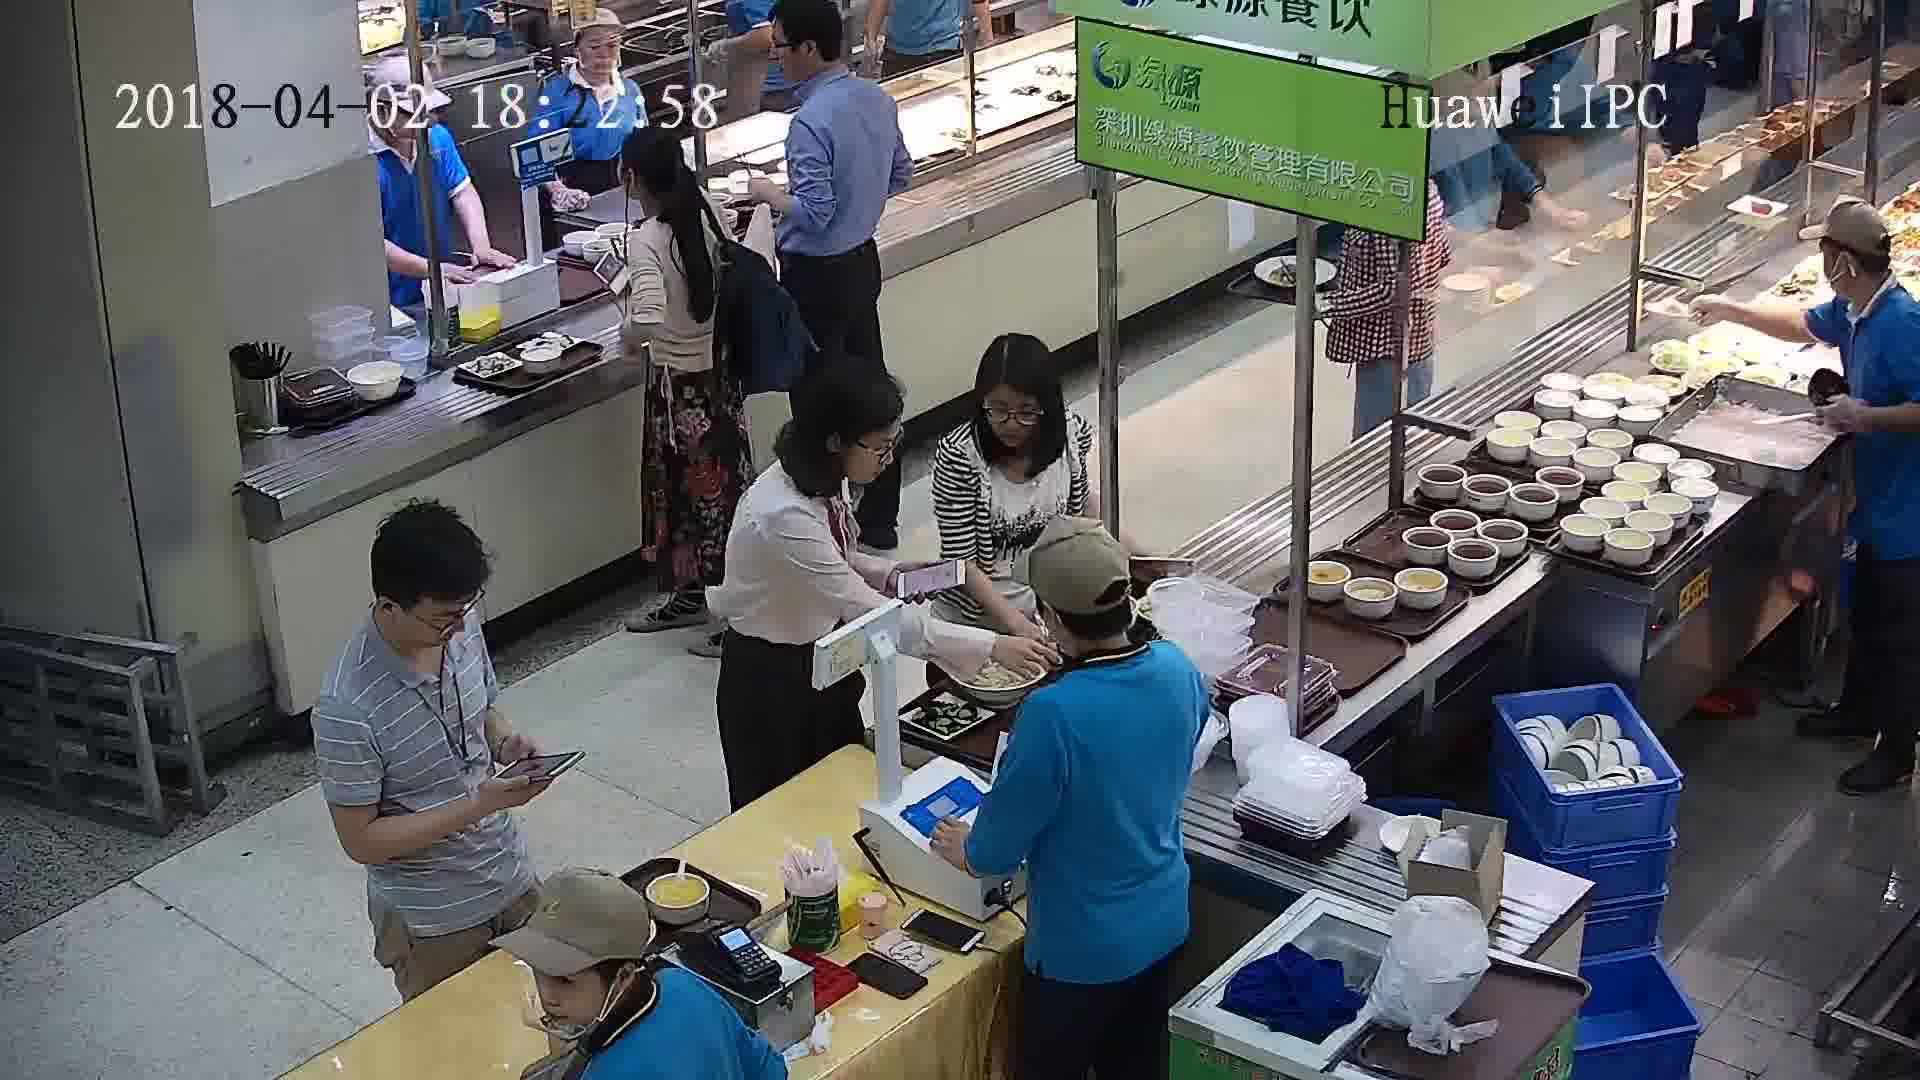face: (402, 582, 470, 650), (977, 382, 1045, 450), (755, 13, 820, 78), (843, 420, 905, 482), (596, 143, 646, 194)
person: (1005, 521, 1207, 754), (321, 499, 494, 730), (729, 359, 907, 568), (515, 854, 691, 1052), (936, 335, 1081, 508), (761, 1, 896, 139), (617, 125, 736, 271), (1806, 201, 1920, 354), (551, 16, 646, 114), (367, 82, 453, 182)
